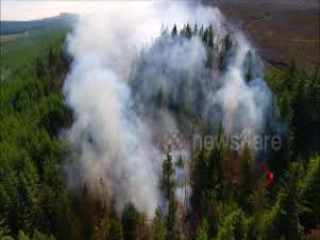fire: (263, 165, 279, 190)
smoke: (62, 8, 276, 216)
